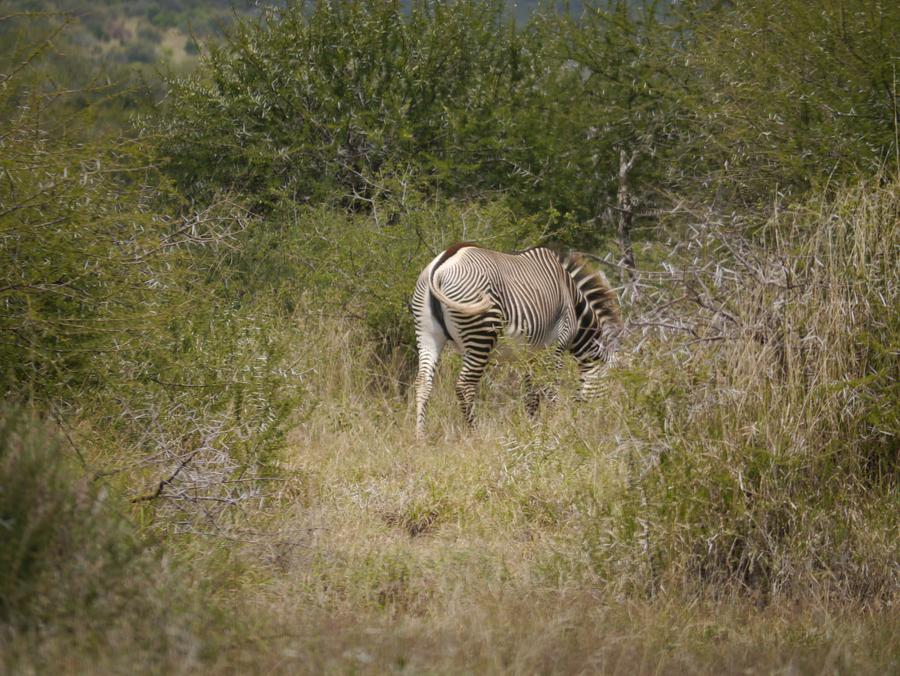zebra_grevys: (429, 225, 570, 340)
